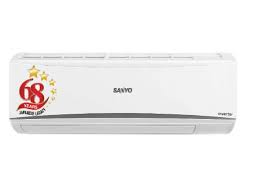ac: (8, 49, 241, 140)
